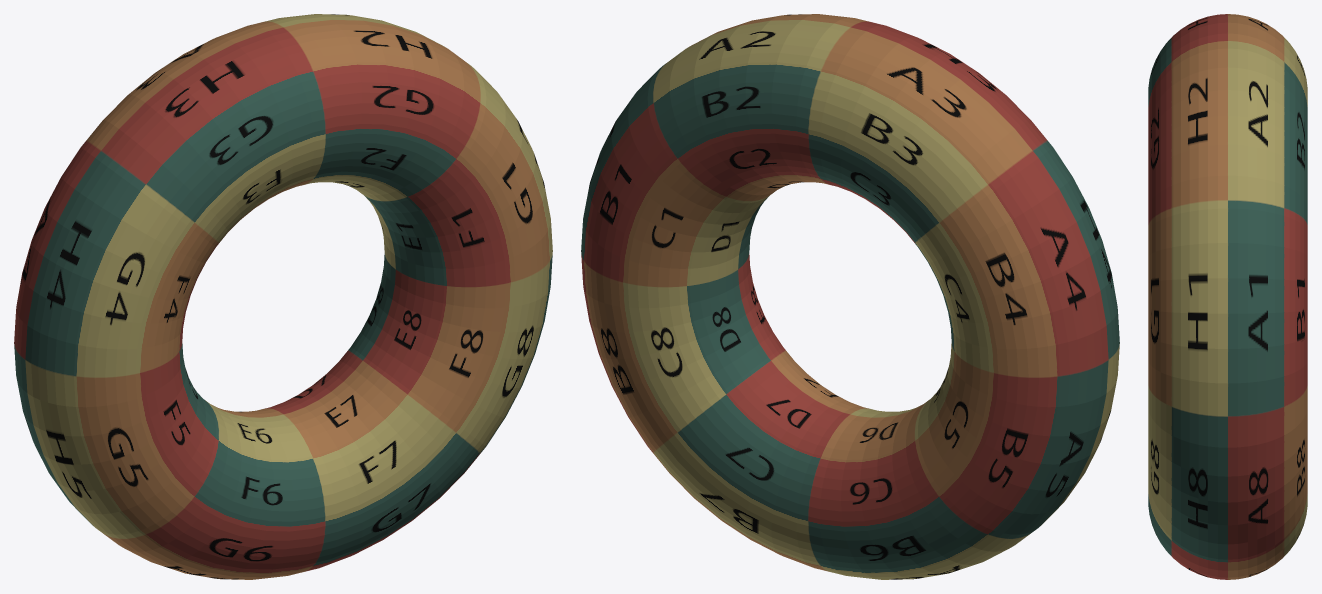
The model's file is texture_torus_R15_r22.glb.
3 views of the same model, side by side, from view 1: azimuth 30°, elevation 25°; view 2: azimuth 150°, elevation 25°; view 3: azimuth 270°, elevation 25° (orthographic). The views are drawn at different scales.
Parts seen in each view (by area): view 1: world; view 2: world; view 3: world.
Boxes of the visible parts, x1,y1,x2,y2 form: world: (14,14,552,579); world: (581,14,1119,579); world: (1148,14,1307,579).
Size of the model in its own units: 27.87 by 27.81 by 7.85.
1 material, 1 textured.
